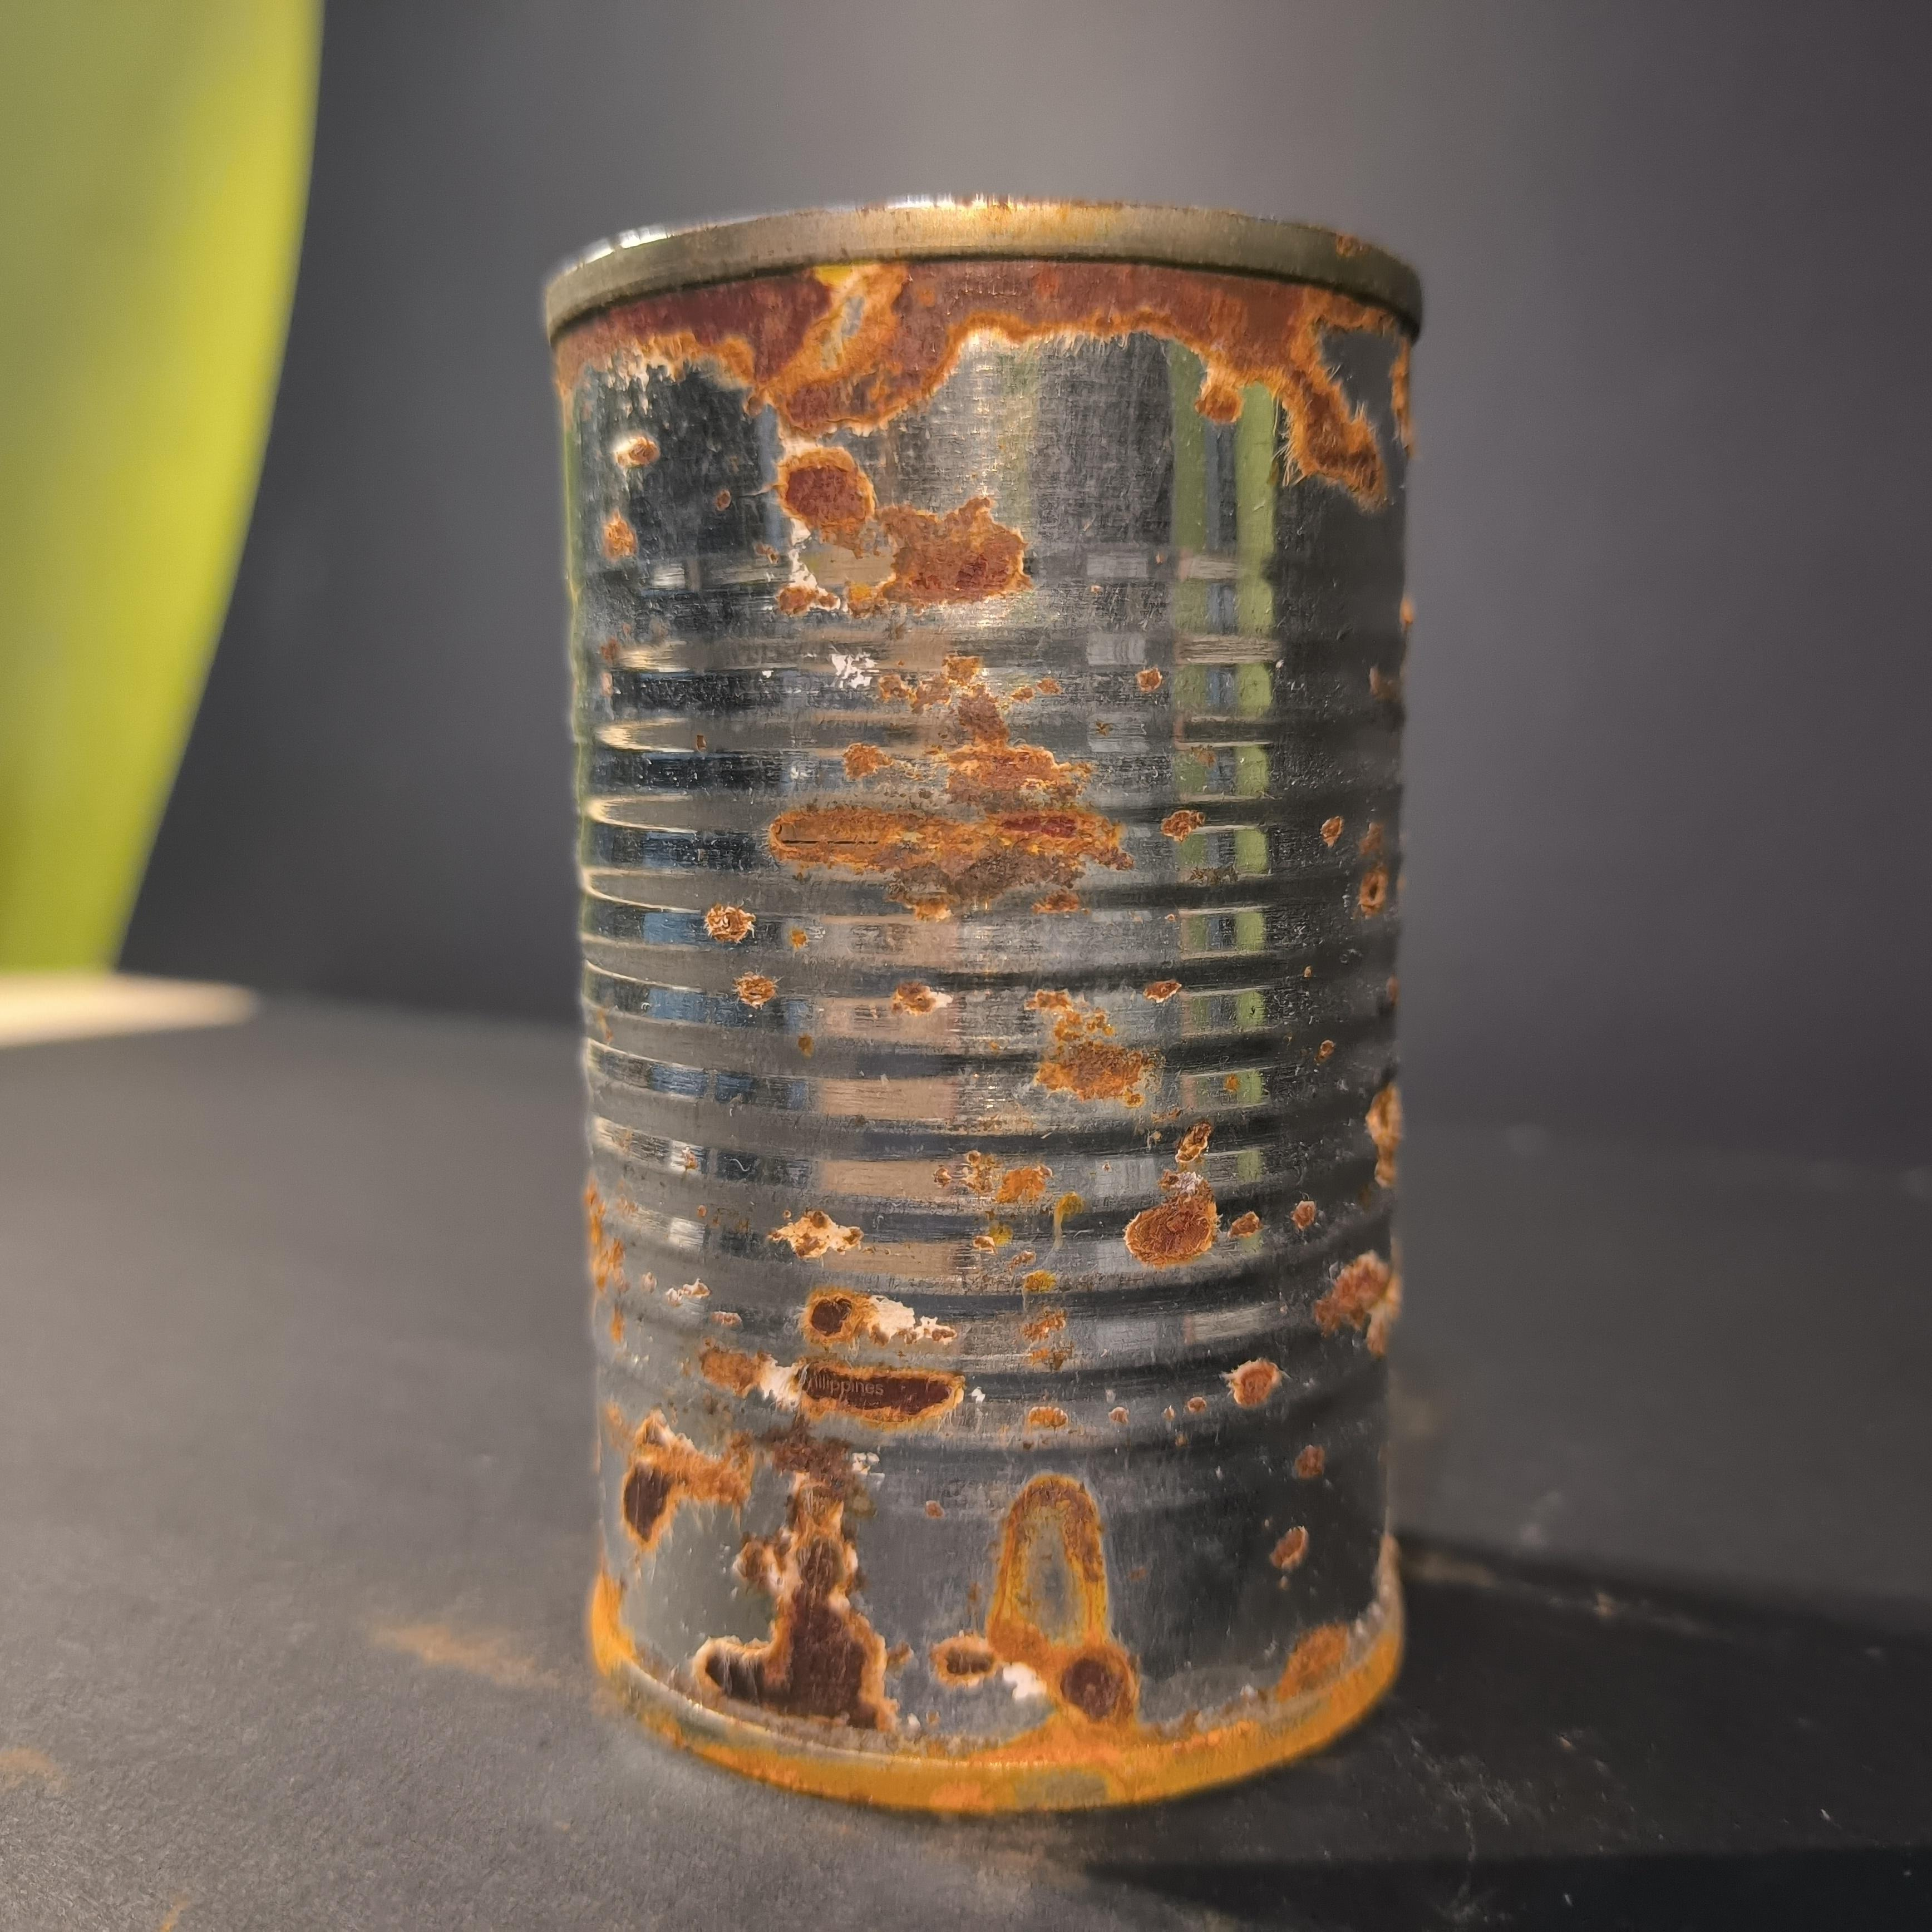Rusted: (511, 170, 1447, 1836)
